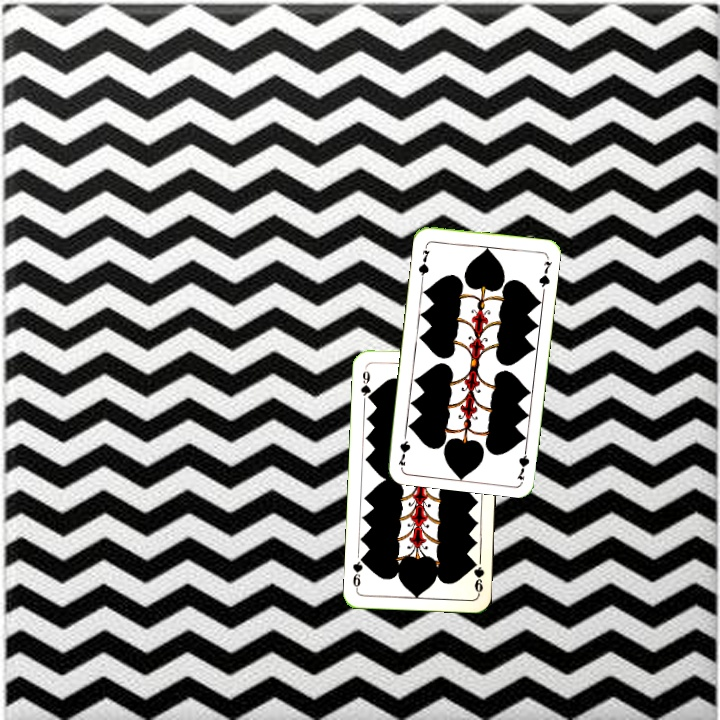G7: (513, 441, 532, 482), (414, 246, 432, 281)
G9: (468, 556, 486, 597), (357, 363, 374, 404)
